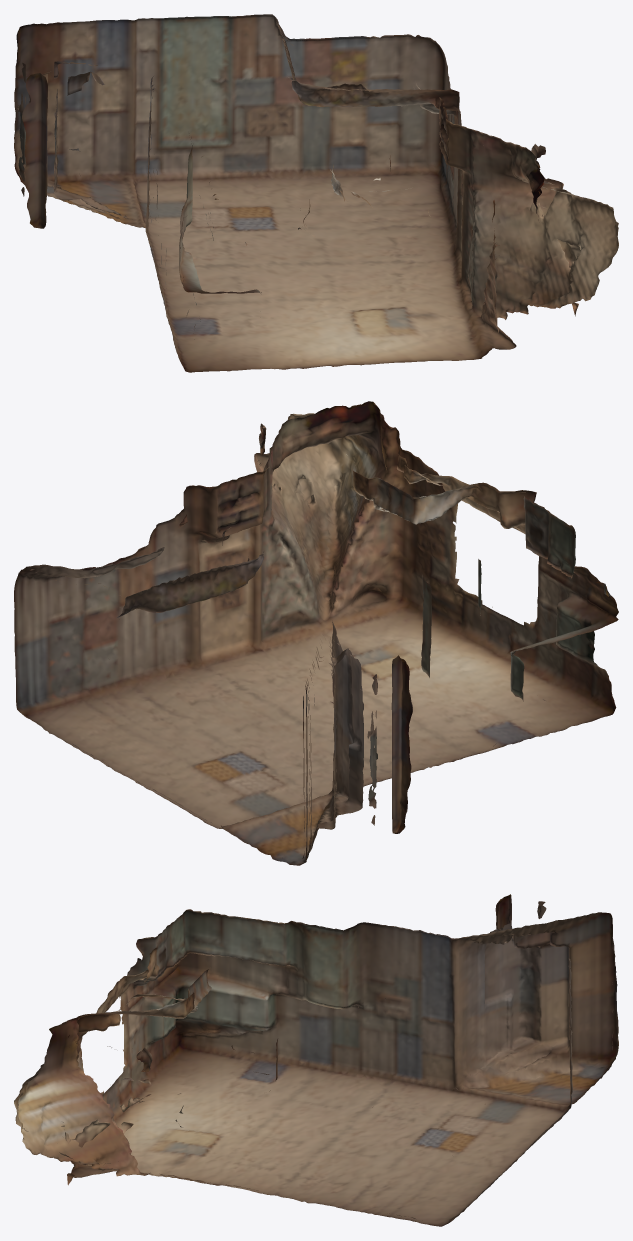
Rendered from Post-Apocalyptic Scavenger_collider.glb.
3 renders of one model, top to bottom at view 1: azimuth 30°, elevation 25°; view 2: azimuth 150°, elevation 25°; view 3: azimuth 270°, elevation 25°, orthographic. The views are drawn at different scales.
Parts seen in each view (by area): view 1: world; view 2: world; view 3: world.
Boxes of the visible parts, left/top/right/bottom form: world: left=14, top=14, right=618, bottom=372; world: left=14, top=401, right=618, bottom=865; world: left=14, top=894, right=618, bottom=1226.
Bounding box in the file's own units: 6.89 × 2.93 × 9.42.
